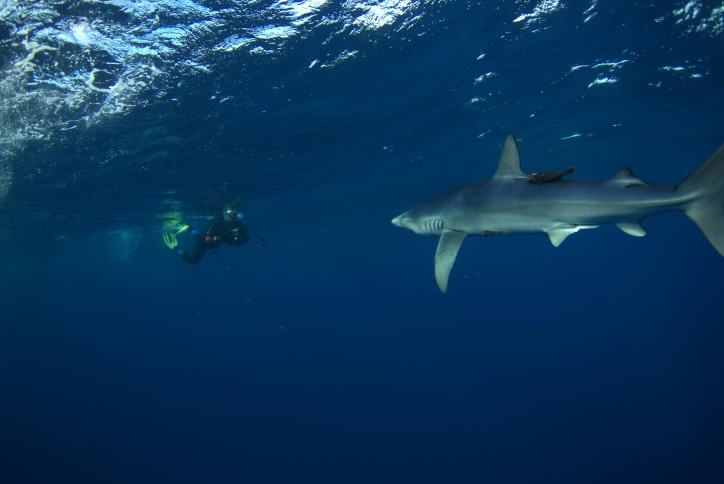Azul: (362, 114, 724, 301)
